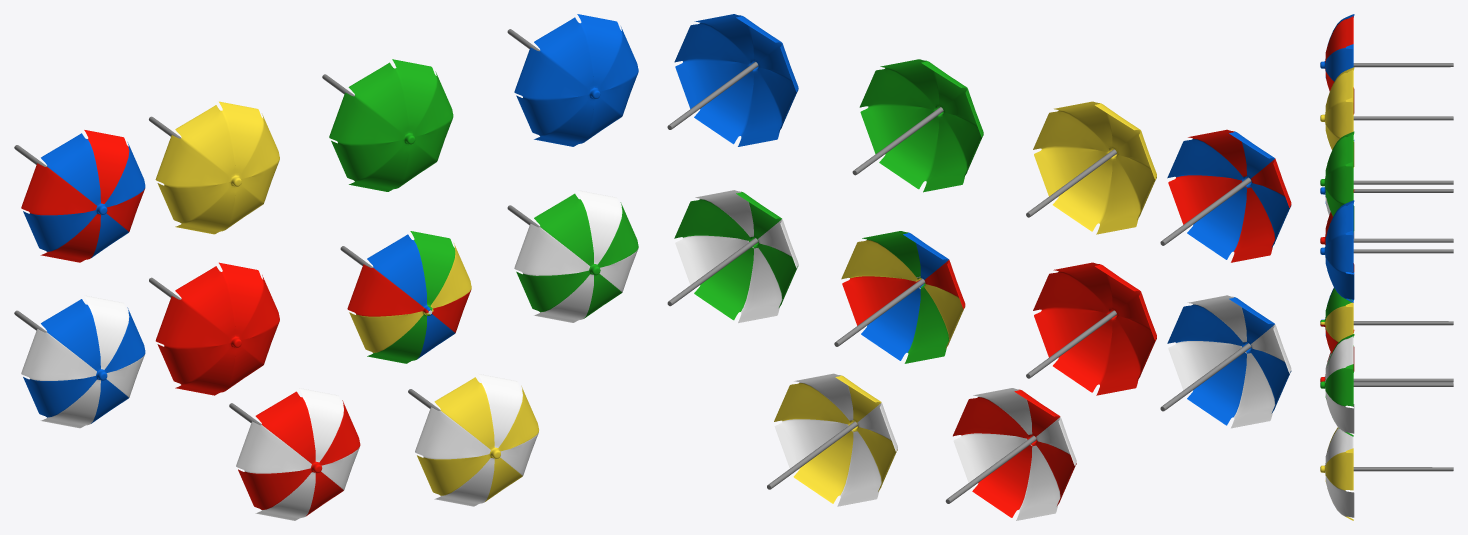
Rendered from UMBRELLAS_1.fbx.
3 renders of one model, left to right at view 1: azimuth 30°, elevation 25°; view 2: azimuth 150°, elevation 25°; view 3: azimuth 270°, elevation 25°, orthographic. The views are drawn at different scales.
Parts seen in each view (by area): view 1: Circle.008, Circle.012, Circle.014, Circle.010, Circle.006, Circle.016, Circle.002, Circle.004, Circle, Circle.018; view 2: Circle.018, Circle.012, Circle.004, Circle.014, Circle.016, Circle.006, Circle, Circle.008, Circle.002, Circle.010; view 3: Circle.002, Circle.004, Circle.018, Circle.006, Circle.008, Circle.014, Circle, Circle.009, Circle.017, Circle.007, Circle.005, Circle.011 (+5 smaller).
Boxes of the visible parts, x1,y1,x2,y2 form: Circle.008: (155, 101, 279, 234); Circle.012: (21, 295, 145, 428); Circle.014: (21, 130, 145, 262); Circle.010: (155, 262, 279, 395); Circle.006: (329, 59, 453, 191); Circle.016: (236, 388, 360, 520); Circle.002: (514, 190, 638, 322); Circle.004: (514, 14, 638, 146); Circle: (347, 231, 471, 363); Circle.018: (415, 374, 538, 506); Circle.018: (774, 373, 897, 506); Circle.012: (1167, 295, 1291, 428); Circle.004: (674, 14, 798, 146); Circle.014: (1167, 129, 1291, 262); Circle.016: (953, 388, 1076, 520); Circle.006: (859, 59, 983, 192); Circle: (841, 231, 965, 363); Circle.008: (1033, 101, 1156, 234); Circle.002: (674, 190, 798, 322); Circle.010: (1033, 262, 1156, 395); Circle.002: (1320, 334, 1354, 436); Circle.004: (1320, 200, 1354, 302); Circle.018: (1320, 427, 1354, 520); Circle.006: (1320, 131, 1354, 231); Circle.008: (1320, 67, 1354, 167); Circle.014: (1320, 14, 1354, 114); Circle: (1320, 272, 1354, 372); Circle.009: (1353, 116, 1453, 120); Circle.017: (1353, 378, 1453, 382); Circle.007: (1353, 180, 1453, 184); Circle.005: (1353, 249, 1453, 253); Circle.011: (1353, 238, 1453, 242).
Size of the model in its own units: 10.07 by 7.38 by 2.48.
